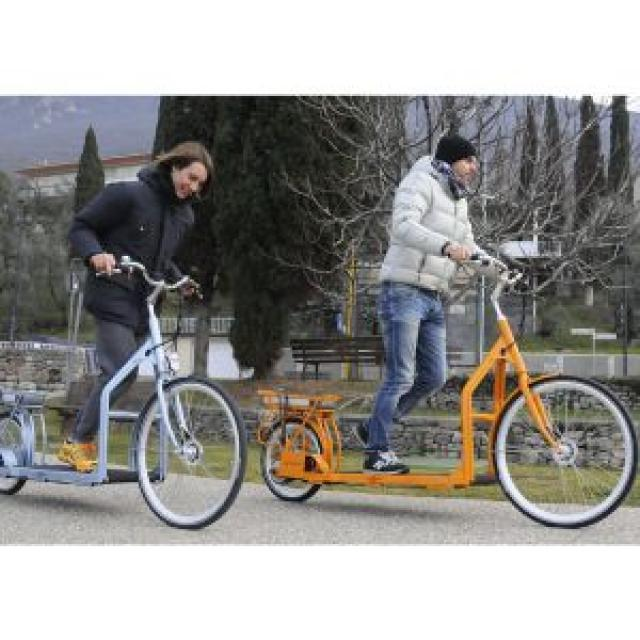nonfall: (336, 133, 520, 476), (64, 120, 211, 451)
